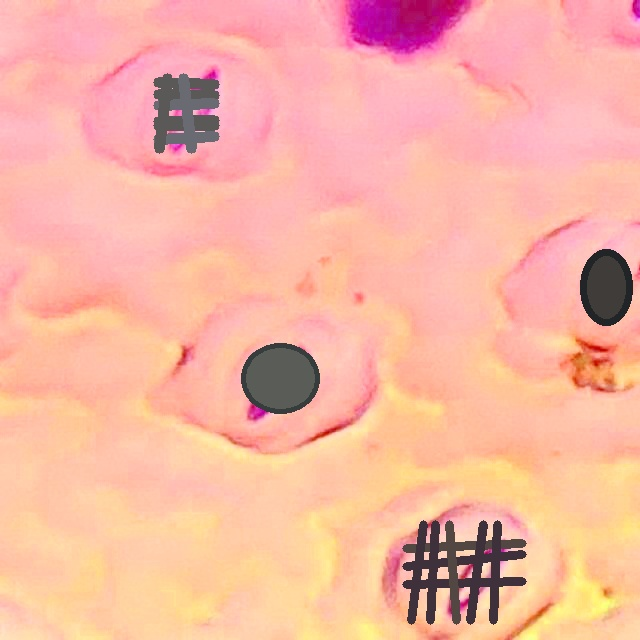close: (581, 250, 632, 325)
open: (402, 520, 526, 623), (241, 343, 319, 413), (154, 74, 219, 152)
